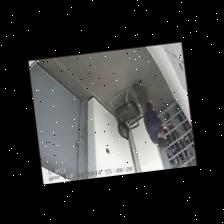person: (133, 80, 168, 148)
